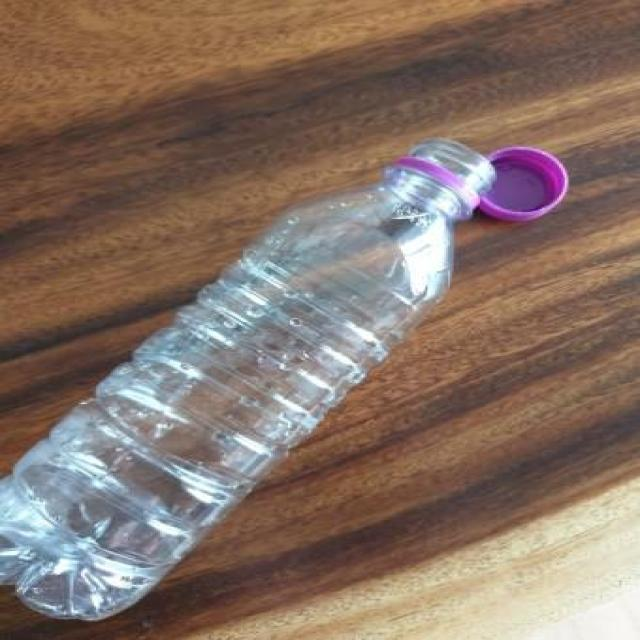bottle: (1, 135, 498, 621)
